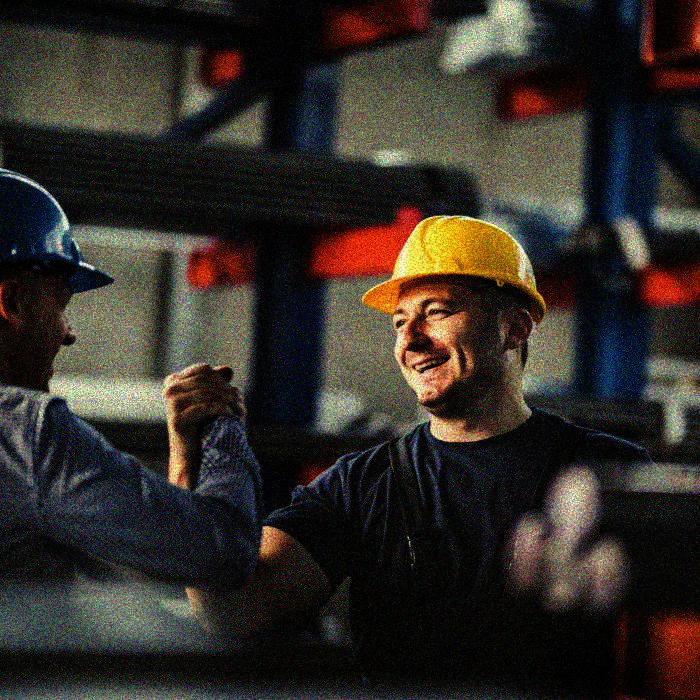helmet: (362, 211, 549, 408), (1, 170, 115, 390)
